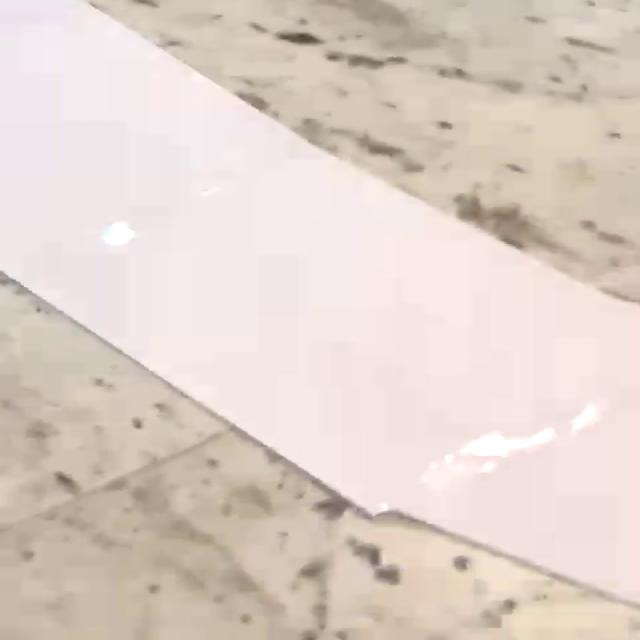road: (1, 0, 639, 601)
